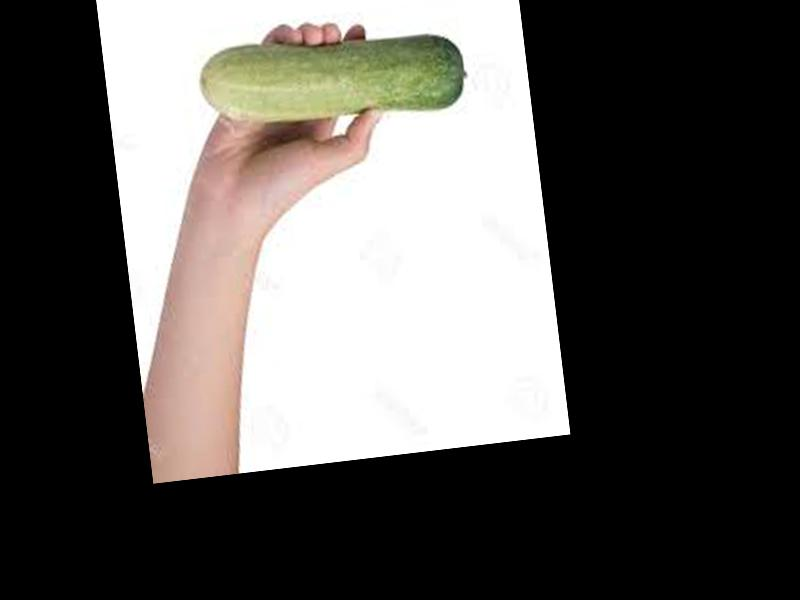Cucumber: (195, 22, 472, 141)
